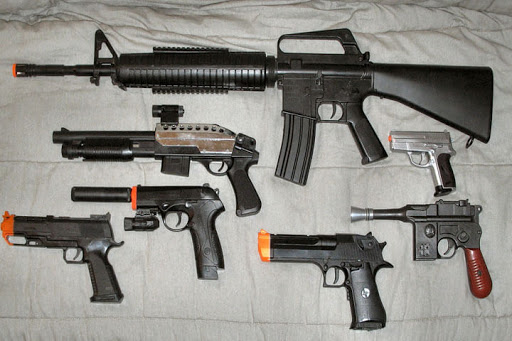Arma Falsa: (10, 23, 512, 162), (72, 182, 234, 280), (254, 228, 402, 332), (349, 202, 506, 292), (1, 208, 133, 307), (386, 128, 461, 196)
